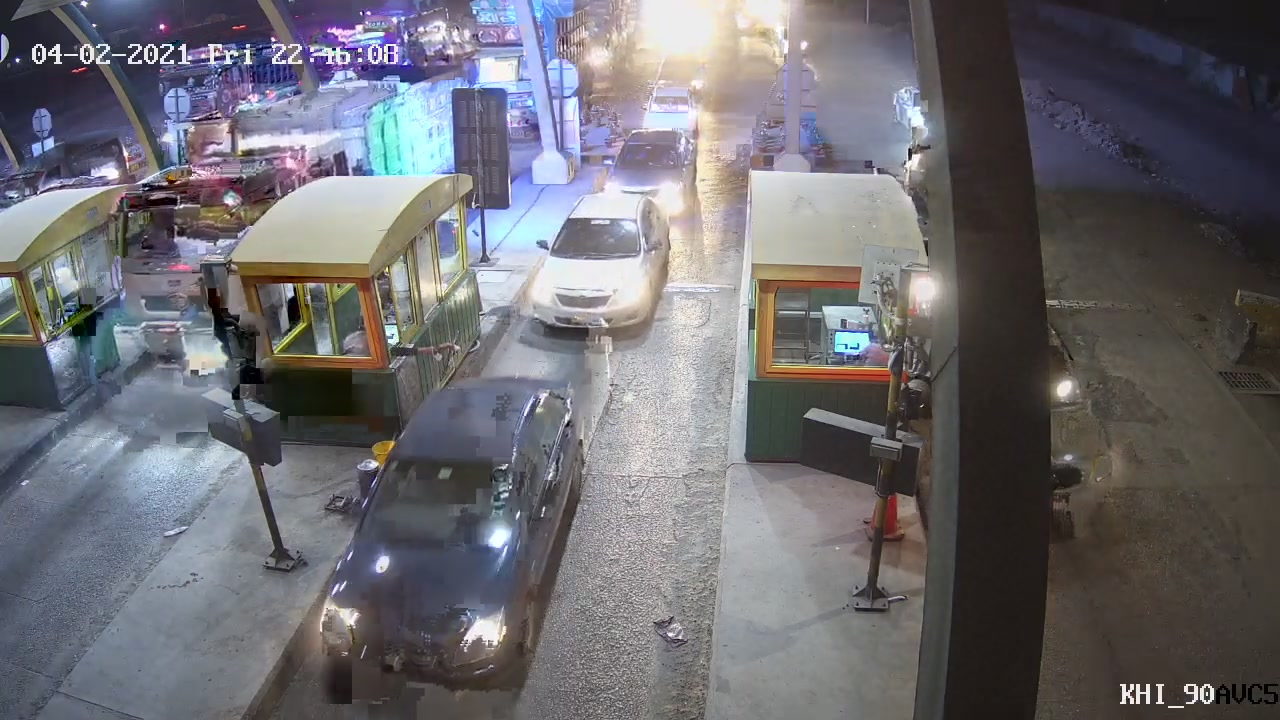F1: (528, 188, 680, 334)
